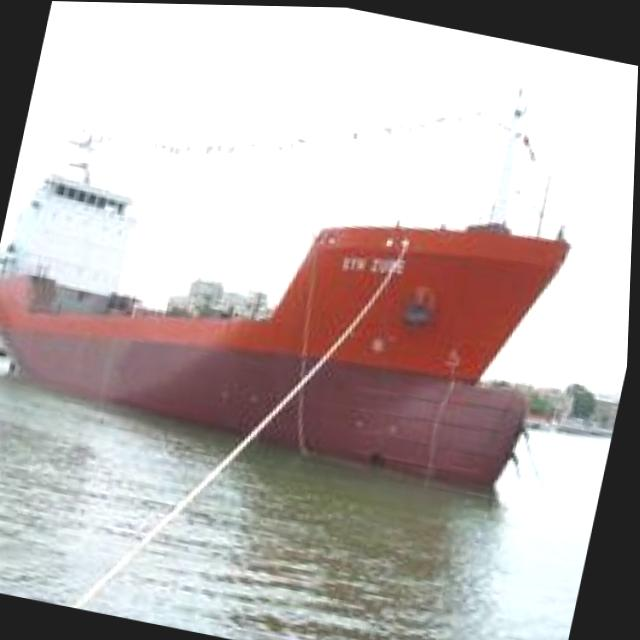ship2: (0, 83, 572, 488)
